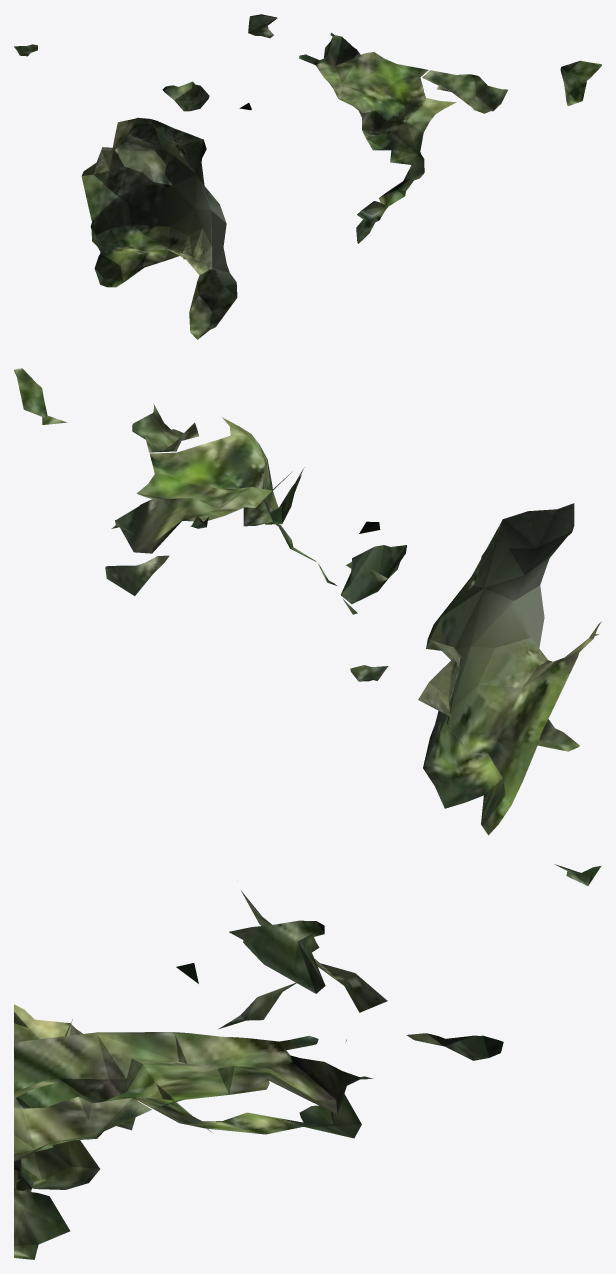
The picture shows the model from 3 angles, top to bottom: view 1: azimuth 30°, elevation 25°; view 2: azimuth 150°, elevation 25°; view 3: azimuth 270°, elevation 25°; orthographic projection. The views are drawn at different scales.
Bounding box in the file's own units: 20.55 × 8.16 × 14.16.
Materials: 1 (1 with a texture image).
